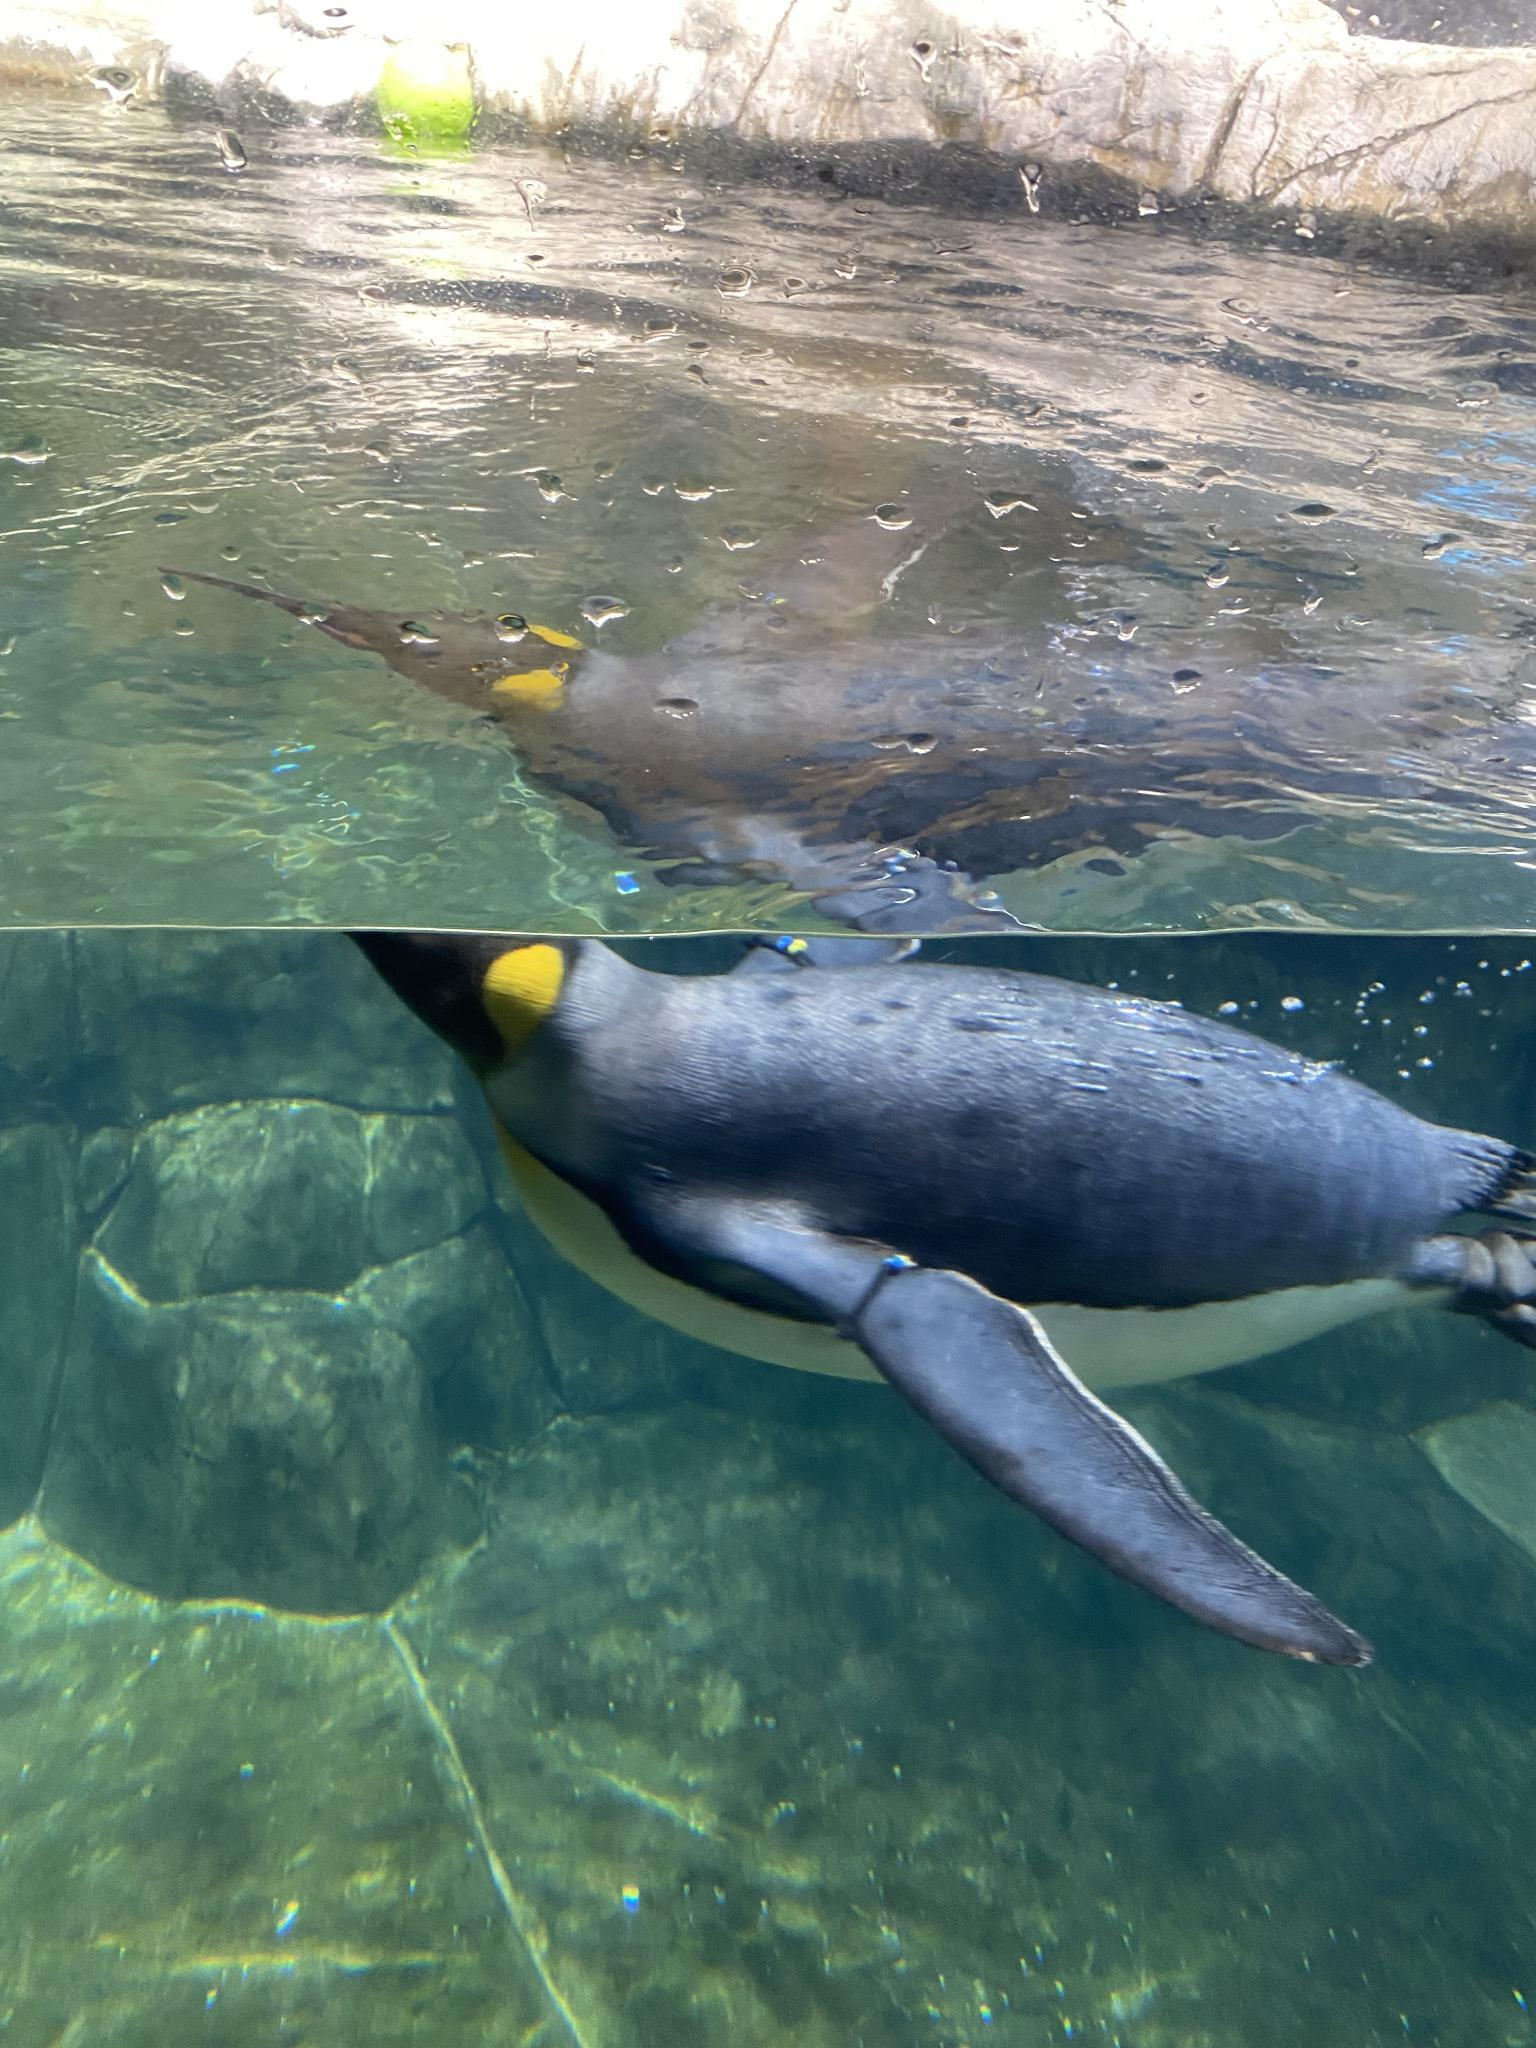penguin: (332, 855, 1534, 1680)
